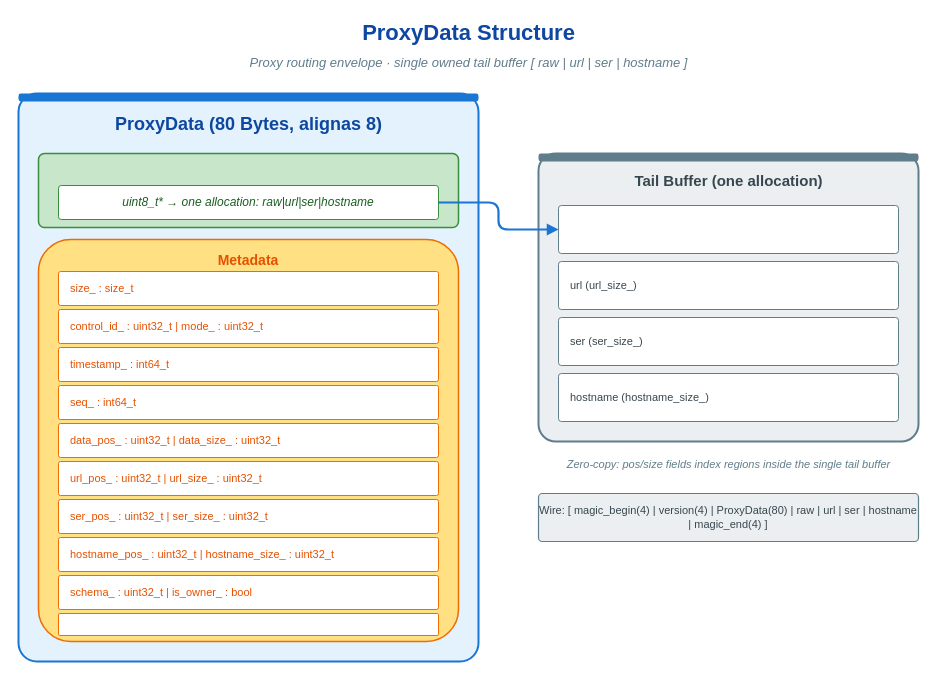
Some shapes in this 936 by 679 pixel diagram are drawn without their labels. The shapes that lost their labels are listed below. From the top down, each one's box as (x1, y1, x2, y2) in pixels, then its label:
(37, 152, 459, 228): Tail Buffer (data_)
(558, 204, 898, 254): raw (data_size_)
(58, 612, 438, 636): reserved_buf_ : uint8_t | reserved_buf2_ : uint16_t
